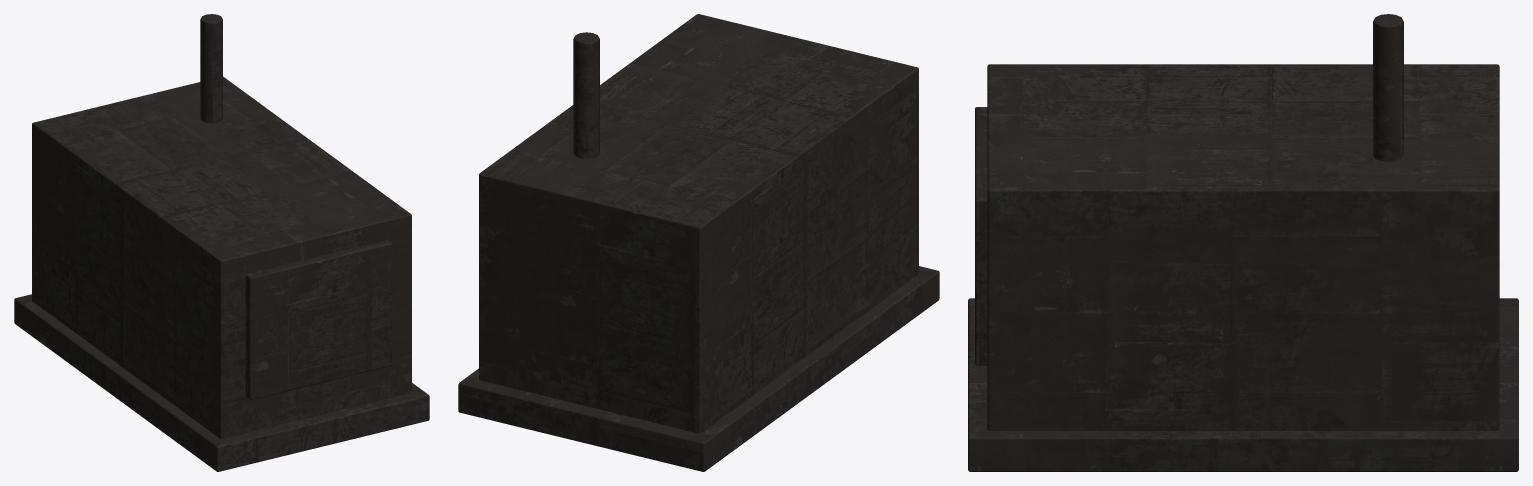
Rendered from diesel_generator_aaa.glb.
3 views of the same model, side by side, from view 1: azimuth 30°, elevation 25°; view 2: azimuth 150°, elevation 25°; view 3: azimuth 270°, elevation 25° (orthographic). The views are drawn at different scales.
Visible parts, largest first — view 1: DieselGenerator; view 2: DieselGenerator; view 3: DieselGenerator.
Part boxes in pixels (x1,y1,x2,y2): DieselGenerator: (14, 14, 429, 471); DieselGenerator: (458, 14, 939, 471); DieselGenerator: (968, 14, 1518, 471).
Size of the model in its own units: 1.72 by 2.35 by 2.85.
1 material, 1 textured.
